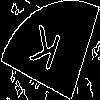K: (24, 24, 63, 81)
